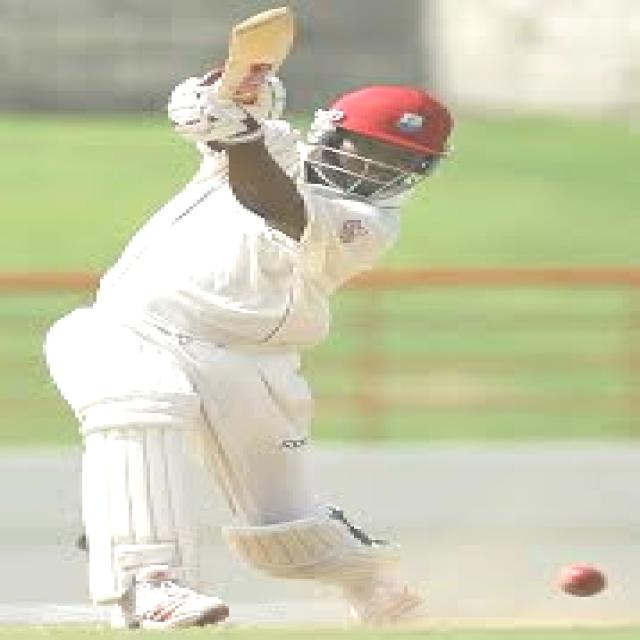toe: (231, 8, 306, 52)
